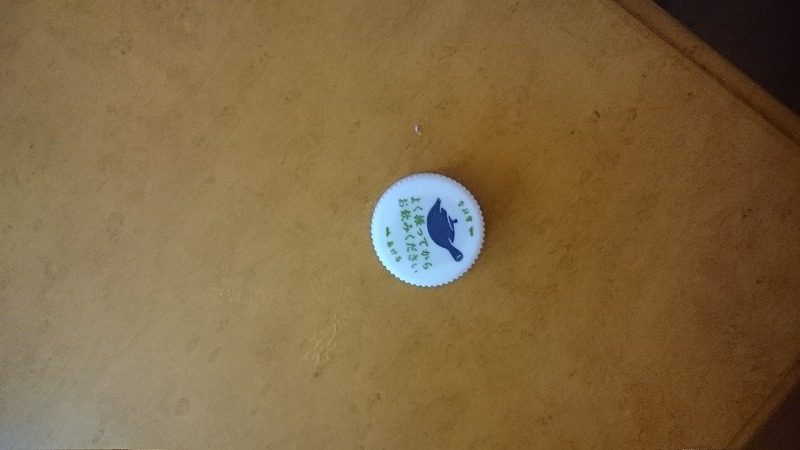A: (365, 168, 499, 293)
